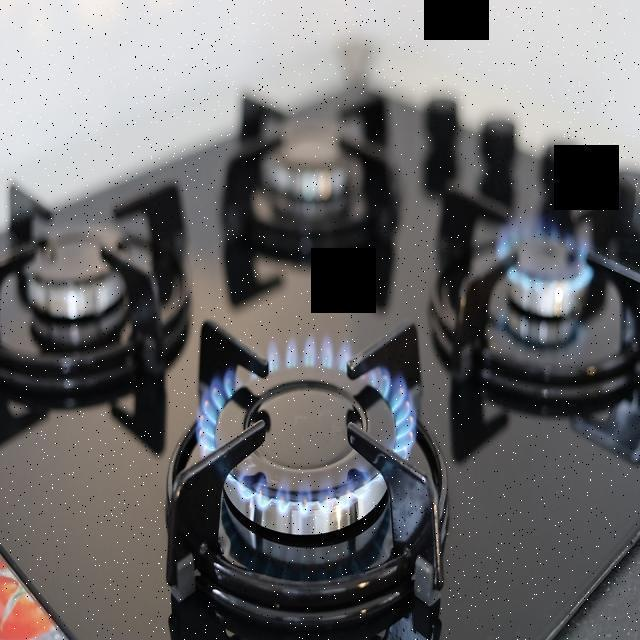Flame: (201, 333, 440, 532), (486, 208, 622, 290)
